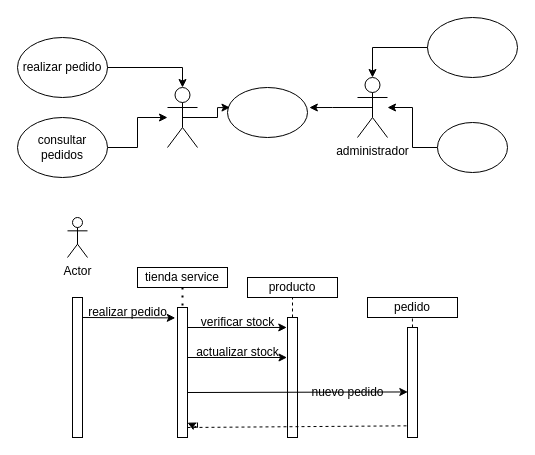
The diagram is 535 pixels wide and 455 high, and some of its shapes have lost their labels. The shapes that lost their labels are listed below. From the top down, each one's box as (x1, y1, x2, y2) in pixels, then its label:
(426, 16, 518, 78): añadir producto al inventario
(166, 86, 198, 148): cliente
(226, 86, 308, 138): lista de producto
(436, 122, 508, 172): eliminar producto
